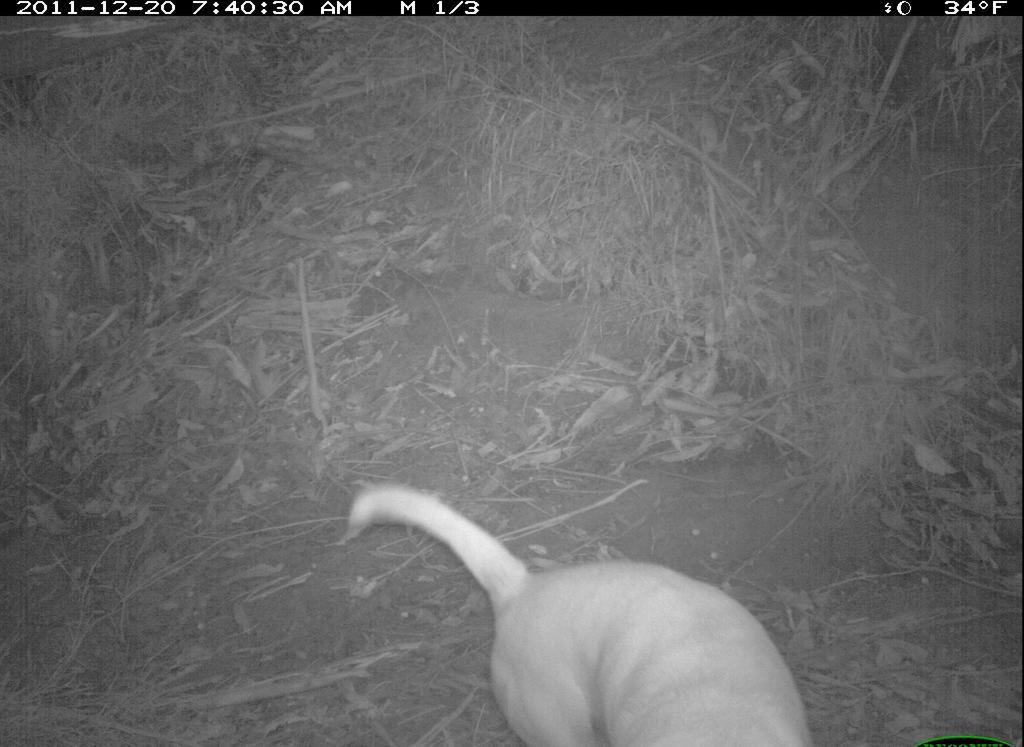dog: (345, 455, 867, 747)
